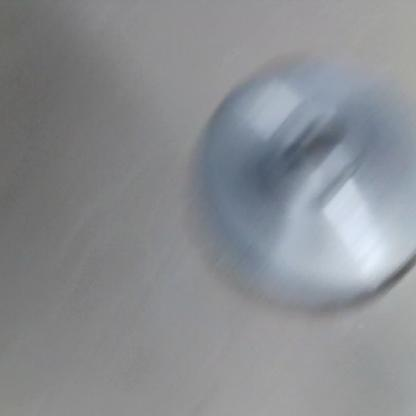FOD: (192, 55, 416, 314)
